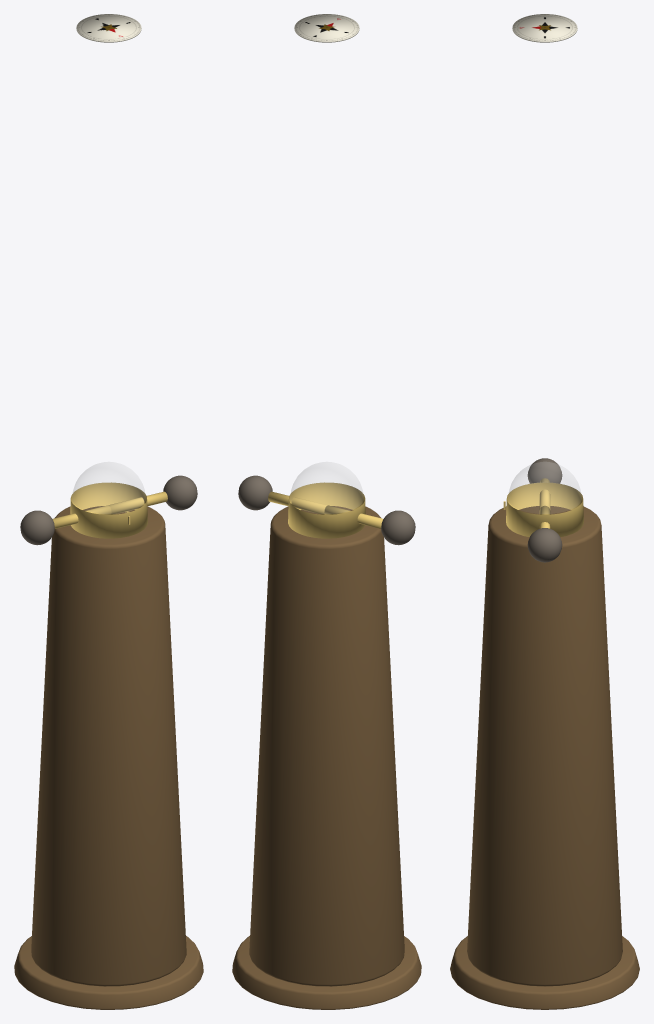
The model's file is Compass_VR_v1.0.fbx.
3 views of the same model, side by side, from view 1: azimuth 30°, elevation 25°; view 2: azimuth 150°, elevation 25°; view 3: azimuth 270°, elevation 25° (orthographic).
Parts seen in each view (by area): view 1: compass_pedestal, compass_base, compass_bowl, glass_dome, compass_card, kelvin_ball_left, kelvin_ball_right, kelvin_arm_right, kelvin_arm_left; view 2: compass_pedestal, compass_base, compass_bowl, glass_dome, compass_card, kelvin_ball_left, kelvin_ball_right, kelvin_arm_right, kelvin_arm_left; view 3: compass_pedestal, compass_base, compass_bowl, glass_dome, compass_card, kelvin_ball_right, kelvin_ball_left.
Boxes of the visible parts, bbox=[...] form: compass_pedestal: bbox=[31, 506, 186, 986]; compass_base: bbox=[14, 936, 203, 1009]; compass_bowl: bbox=[70, 482, 147, 538]; glass_dome: bbox=[72, 462, 144, 513]; compass_card: bbox=[76, 14, 141, 42]; kelvin_ball_left: bbox=[20, 510, 54, 545]; kelvin_ball_right: bbox=[163, 475, 197, 510]; kelvin_arm_right: bbox=[108, 491, 167, 514]; kelvin_arm_left: bbox=[52, 505, 111, 528]; compass_pedestal: bbox=[249, 506, 404, 986]; compass_base: bbox=[232, 936, 421, 1009]; compass_bowl: bbox=[288, 482, 365, 538]; glass_dome: bbox=[291, 462, 363, 513]; compass_card: bbox=[294, 14, 359, 42]; kelvin_ball_left: bbox=[381, 510, 415, 545]; kelvin_ball_right: bbox=[238, 475, 272, 510]; kelvin_arm_right: bbox=[268, 491, 327, 514]; kelvin_arm_left: bbox=[324, 505, 383, 528]; compass_pedestal: bbox=[467, 506, 622, 986]; compass_base: bbox=[450, 936, 639, 1009]; compass_bowl: bbox=[506, 482, 583, 537]; glass_dome: bbox=[508, 462, 581, 513]; compass_card: bbox=[512, 14, 577, 42]; kelvin_ball_right: bbox=[527, 528, 562, 562]; kelvin_ball_left: bbox=[527, 458, 562, 483].
Size of the model in its own units: 0.46 by 2.4 by 0.4373.
Materials: 5 (1 with a texture image).
